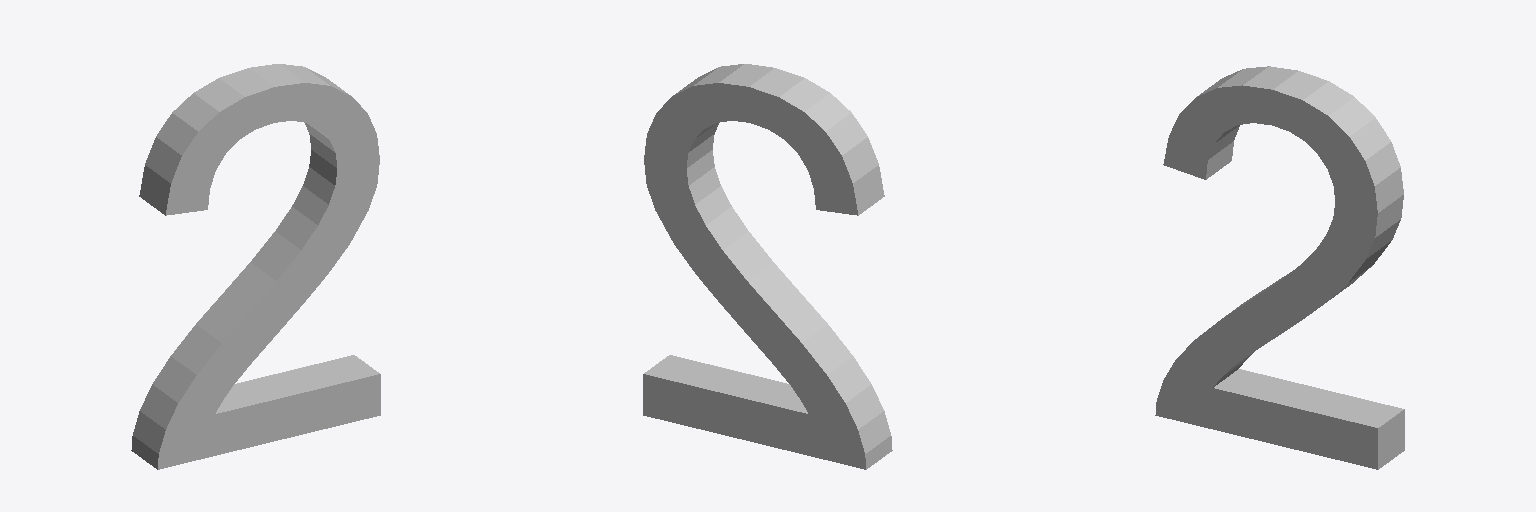
The model's file is two_3006_01.obj.
The picture shows the model from 3 angles: view 1: azimuth 30°, elevation 25°; view 2: azimuth 150°, elevation 25°; view 3: azimuth 330°, elevation 25°; orthographic projection.
Parts seen in each view (by area): view 1: polySurface655 polySurface541; view 2: polySurface655 polySurface541; view 3: polySurface655 polySurface541.
Boxes of the visible parts, x1,y1,x2,y2 form: polySurface655 polySurface541: [131, 64, 380, 469]; polySurface655 polySurface541: [643, 64, 892, 469]; polySurface655 polySurface541: [1155, 66, 1404, 469].
Size of the model in its own units: 0.8449 by 1.28 by 0.1719.